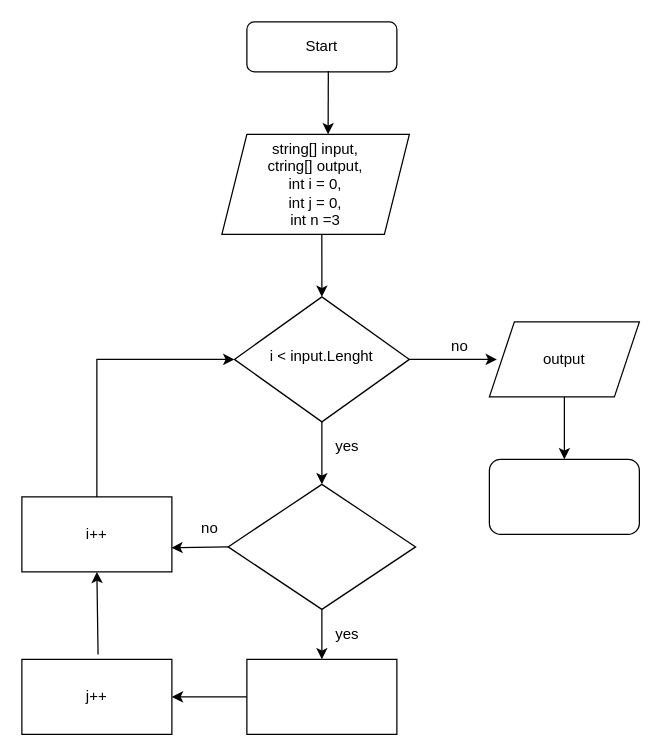
The diagram is 661 pixels wide and 756 high, and some of its shapes have lost their labels. The shapes that lost their labels are listed below. From the top down, each one's box as (x1, y1, x2, y2) in pixels, then its label:
(488, 458, 639, 534): end
(227, 483, 416, 609): input[i].Lenght <= n
(246, 658, 397, 734): output[j] = input[i]
